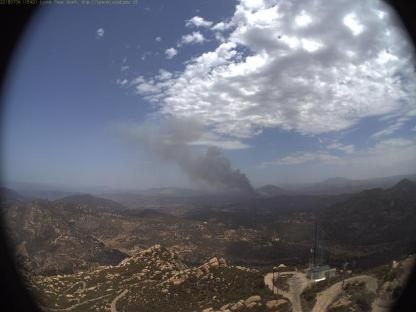smoke: (103, 108, 273, 208)
